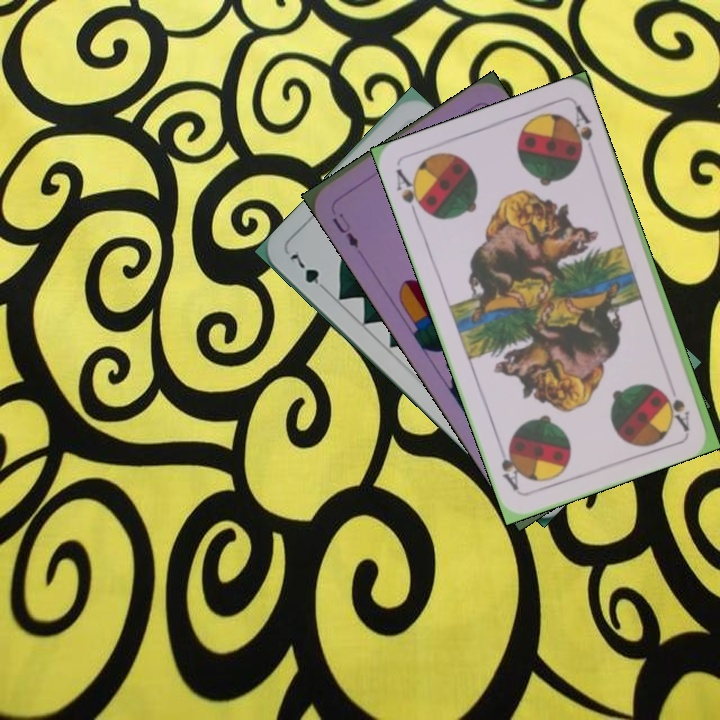EU: (328, 209, 361, 251)
G7: (285, 249, 332, 296)
SA: (392, 164, 430, 222), (663, 375, 692, 433)
